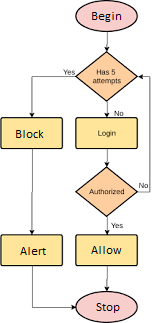arrow: (30, 264, 77, 311), (28, 74, 77, 119), (137, 73, 153, 195), (29, 147, 36, 235), (102, 263, 112, 292), (103, 147, 111, 169), (103, 30, 111, 51), (104, 100, 112, 118), (104, 215, 111, 235)
decision: (73, 167, 141, 217), (75, 52, 140, 102)
process: (74, 116, 140, 151), (1, 232, 64, 268), (74, 233, 140, 267), (1, 116, 65, 151)
terminator: (73, 1, 140, 33), (75, 290, 139, 323)
text: (91, 68, 122, 85), (90, 10, 123, 23), (13, 128, 45, 140), (95, 301, 121, 315), (90, 244, 122, 255), (87, 187, 126, 196), (17, 245, 47, 256), (96, 129, 117, 138), (61, 67, 76, 76), (110, 221, 124, 229), (112, 109, 125, 117), (137, 181, 149, 189)
